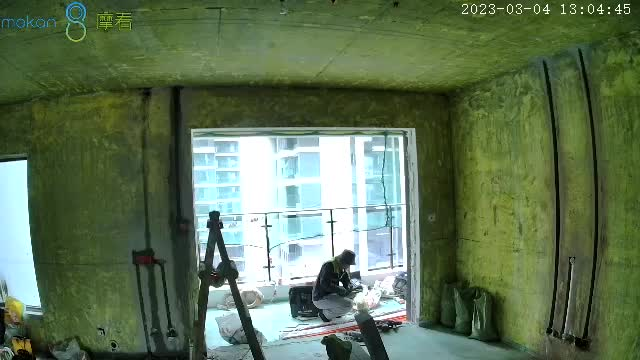people: (312, 250, 357, 321)
window: (191, 134, 405, 281), (1, 158, 43, 316)
